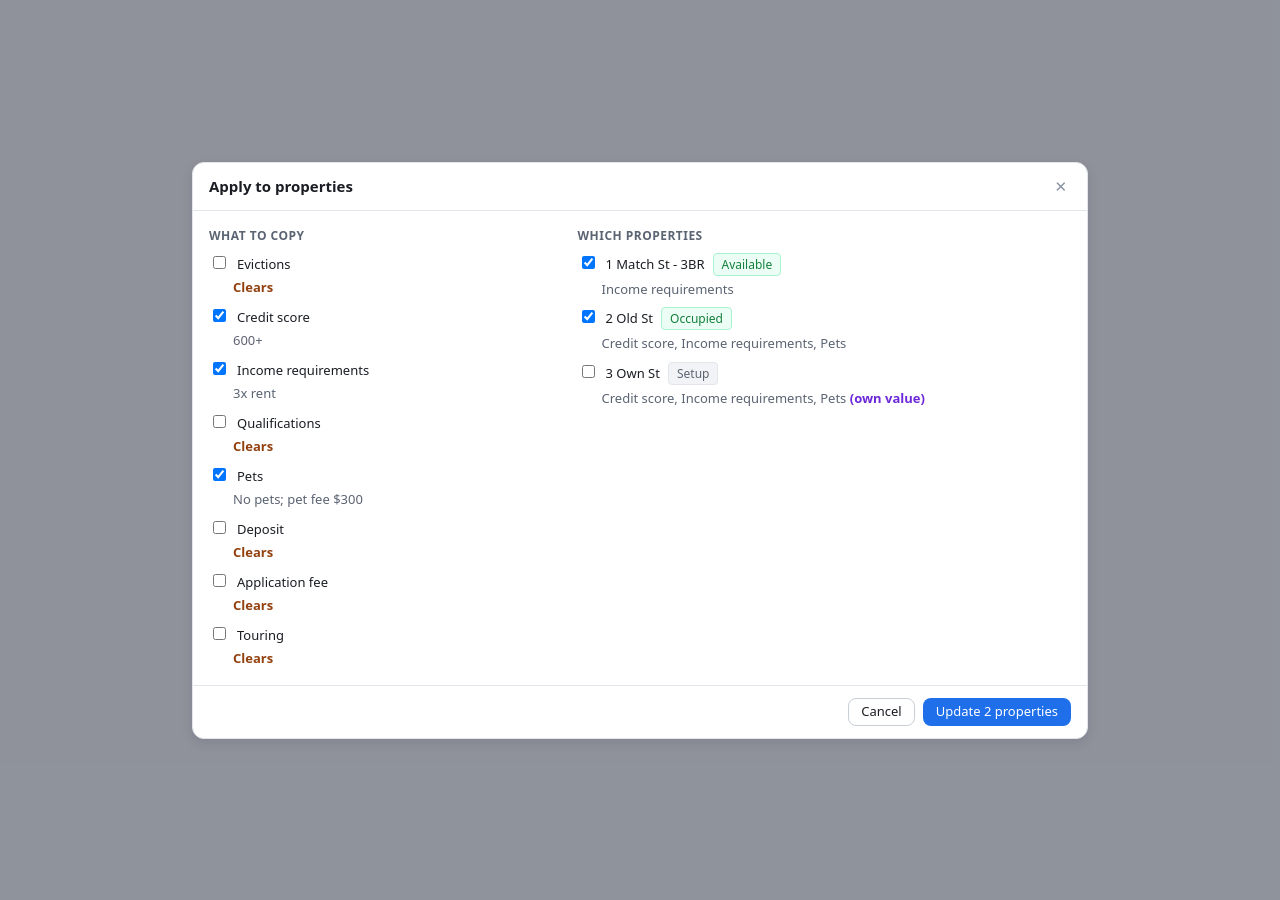
Test: ApplyRequirementsDialog - the left column across a re-read (worklist OR-17) › a first request failing other than with 409 keeps what staff unchecked; an item the landlord blanked comes back unchecked
Expected: the checkbox labelled "Income requirements" is checked, [213, 362, 226, 374]
// Staff leave Credit score out of this Apply.
Click the checkbox labelled "Credit score" at [220, 315], box [213, 308, 226, 322]
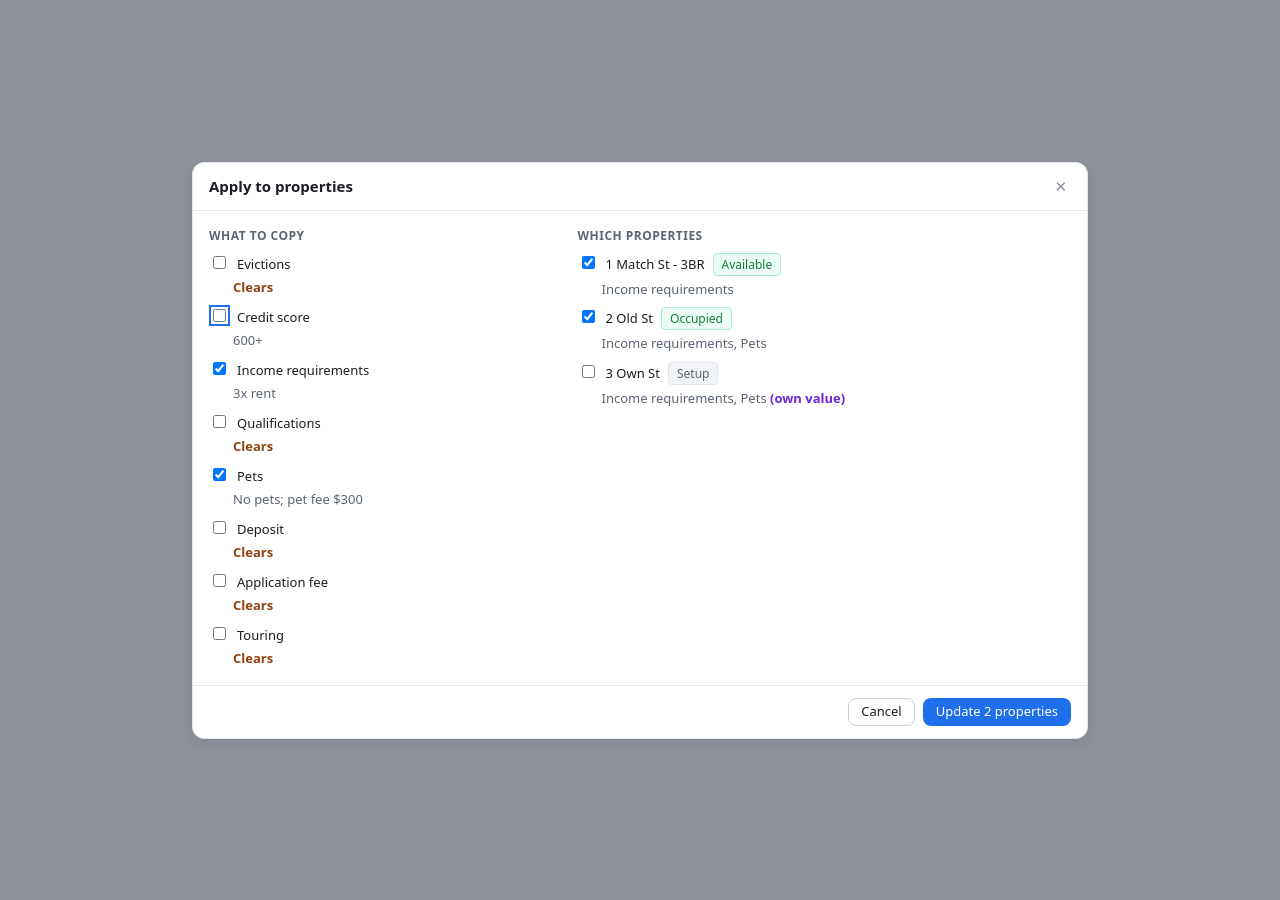
Click the button "Update 2 properties" at [997, 712], box [923, 698, 1071, 726]
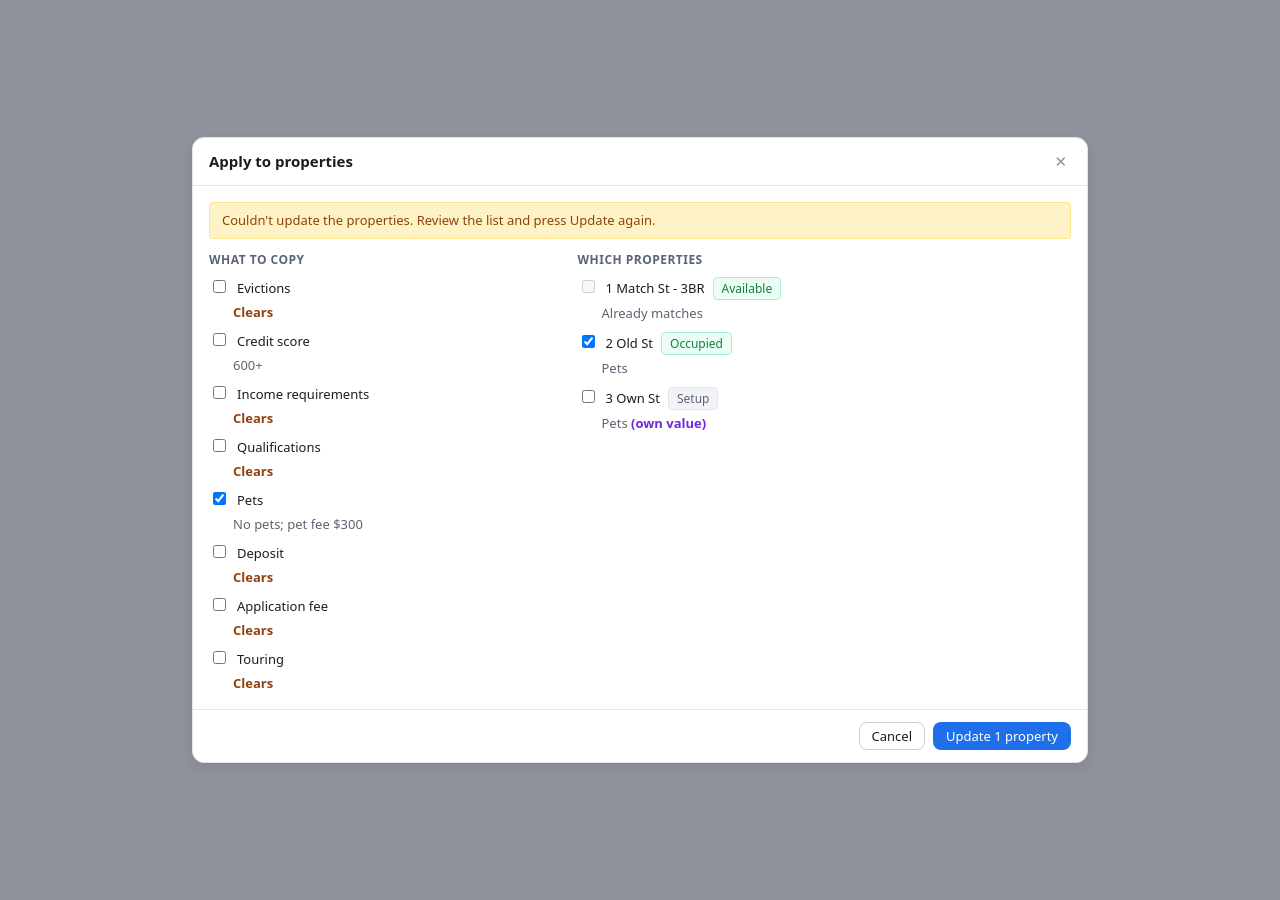
Result: the checkbox labelled "Credit score" is not checked at [213, 333, 226, 346]
Result: the text "Couldn't update the properties. Review the list and press Update again." is shown at [222, 211, 656, 229]
Result: the checkbox labelled "Income requirements" is not checked at [213, 386, 226, 399]
